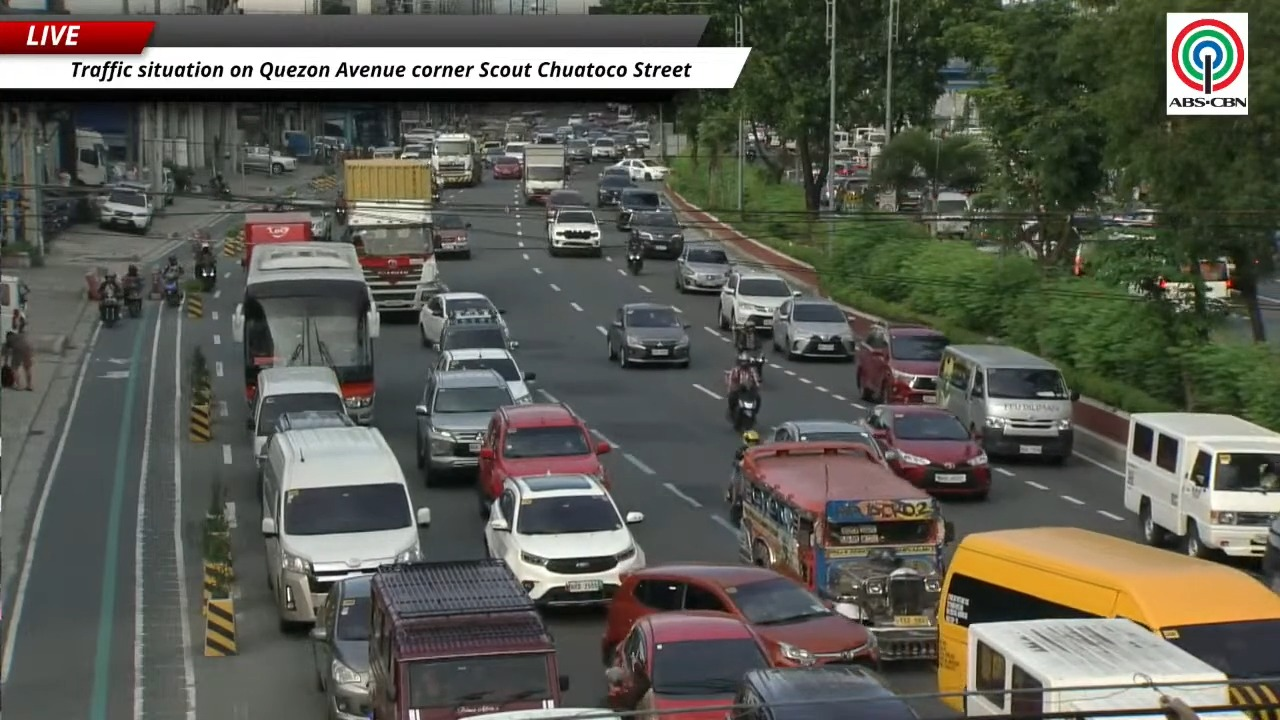bus: (937, 527, 1279, 711), (728, 441, 953, 660), (233, 242, 379, 423)
car: (602, 564, 877, 666), (484, 474, 645, 605), (605, 611, 769, 719), (476, 402, 611, 516), (415, 369, 514, 485), (867, 405, 990, 498), (731, 664, 919, 719), (310, 575, 371, 719), (855, 323, 949, 404), (434, 348, 535, 403), (606, 303, 690, 367), (773, 297, 855, 360), (718, 269, 800, 330), (418, 291, 504, 346), (767, 419, 882, 459), (436, 313, 517, 351), (99, 186, 154, 234), (676, 244, 731, 292), (547, 208, 602, 256), (630, 211, 684, 259), (615, 187, 664, 231), (544, 190, 590, 232), (274, 410, 354, 432), (432, 213, 471, 258), (242, 146, 296, 175), (597, 174, 635, 206), (617, 158, 669, 180), (611, 131, 642, 157), (491, 154, 522, 179), (591, 137, 619, 160), (566, 138, 590, 163), (504, 142, 527, 164), (483, 145, 505, 166), (599, 165, 630, 178), (555, 125, 573, 143), (533, 132, 560, 144), (616, 105, 634, 123), (635, 129, 650, 148), (568, 113, 583, 124)
motorcycle: (730, 390, 759, 432), (99, 289, 119, 327), (125, 282, 142, 318), (196, 262, 216, 291), (163, 276, 182, 306), (210, 177, 231, 199), (627, 250, 644, 276), (724, 371, 731, 390)
truck: (368, 558, 568, 719), (964, 618, 1274, 719), (343, 159, 439, 312), (241, 212, 314, 267), (343, 159, 432, 201), (431, 133, 480, 186), (523, 144, 567, 203), (75, 128, 112, 186)
